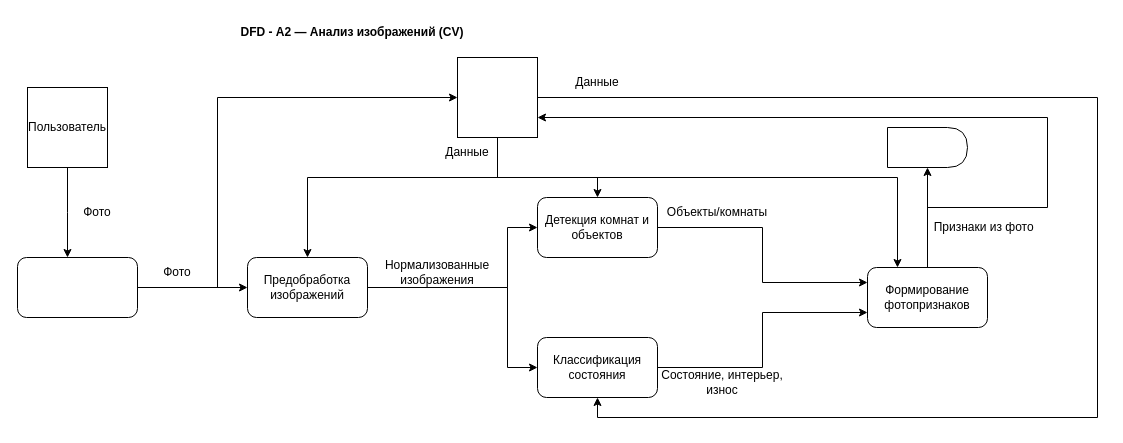
The diagram is 1123 pixels wide and 443 high, and some of its shapes have lost their labels. Each missing label, with the box of its shape:
Backend API: (456, 56, 538, 138)
БД: (886, 126, 968, 168)
Загрузка изображений: (16, 256, 138, 318)
